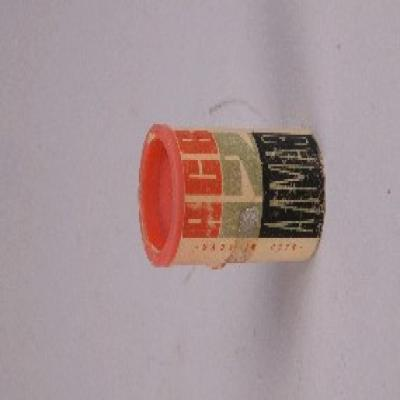technique: (138, 124, 327, 272)
